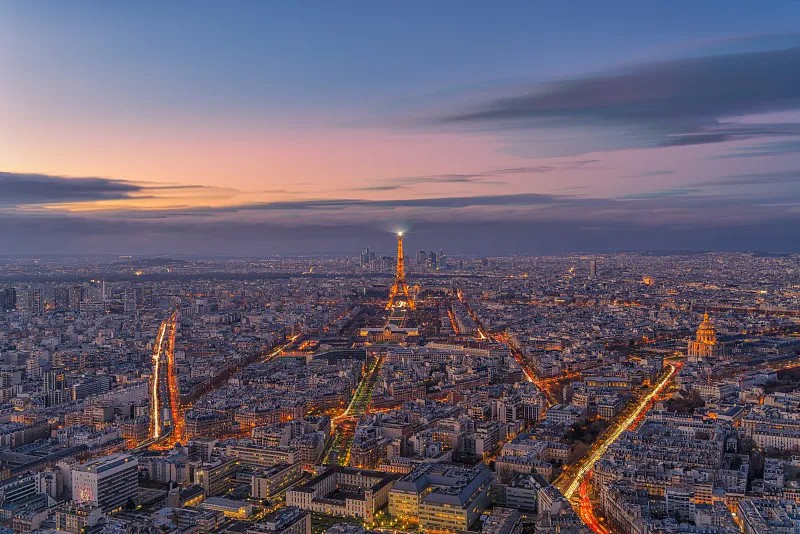Eiffel: (384, 226, 415, 311)
